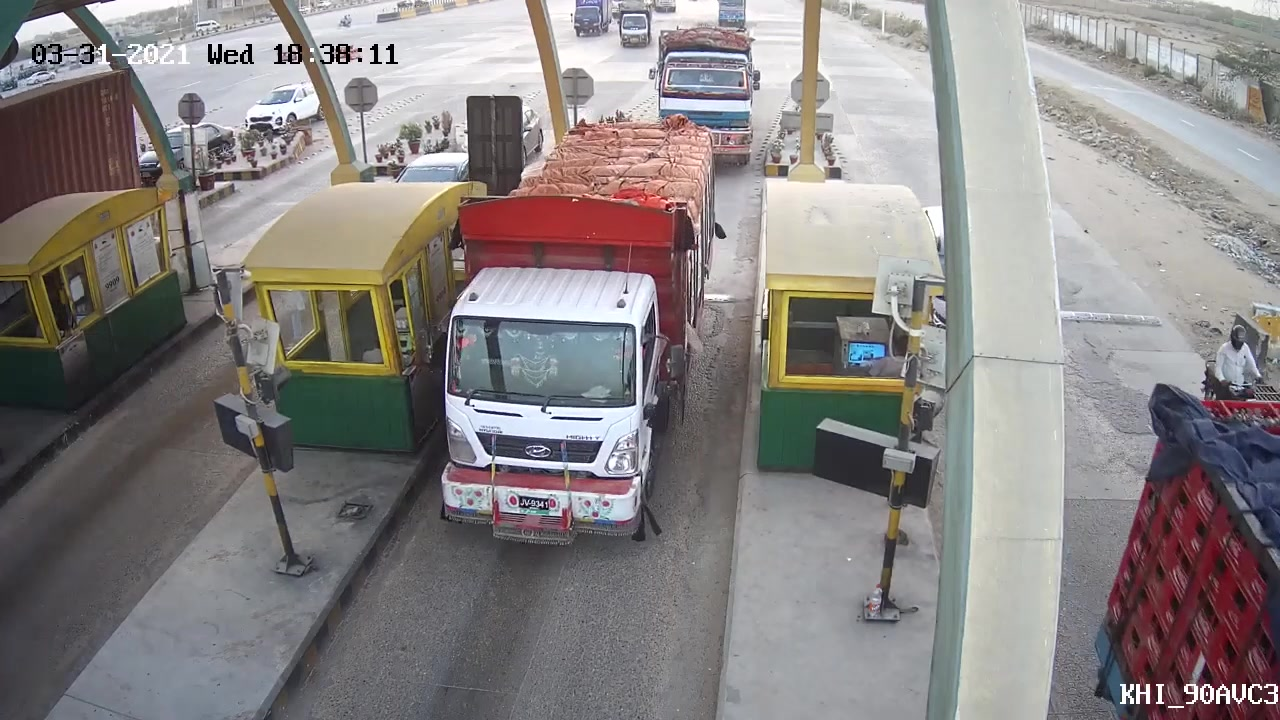F5: (425, 109, 715, 551)
